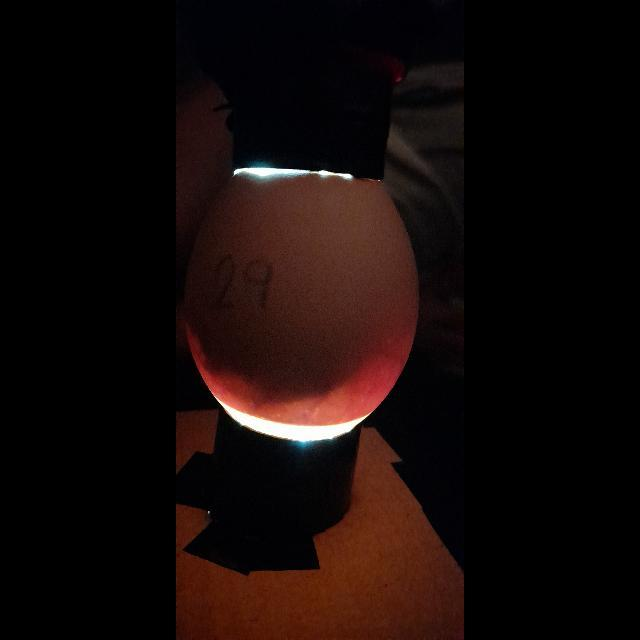Fertile: (188, 172, 426, 446)
